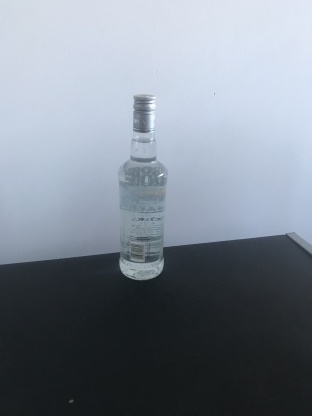nakretka: (131, 93, 157, 134)
